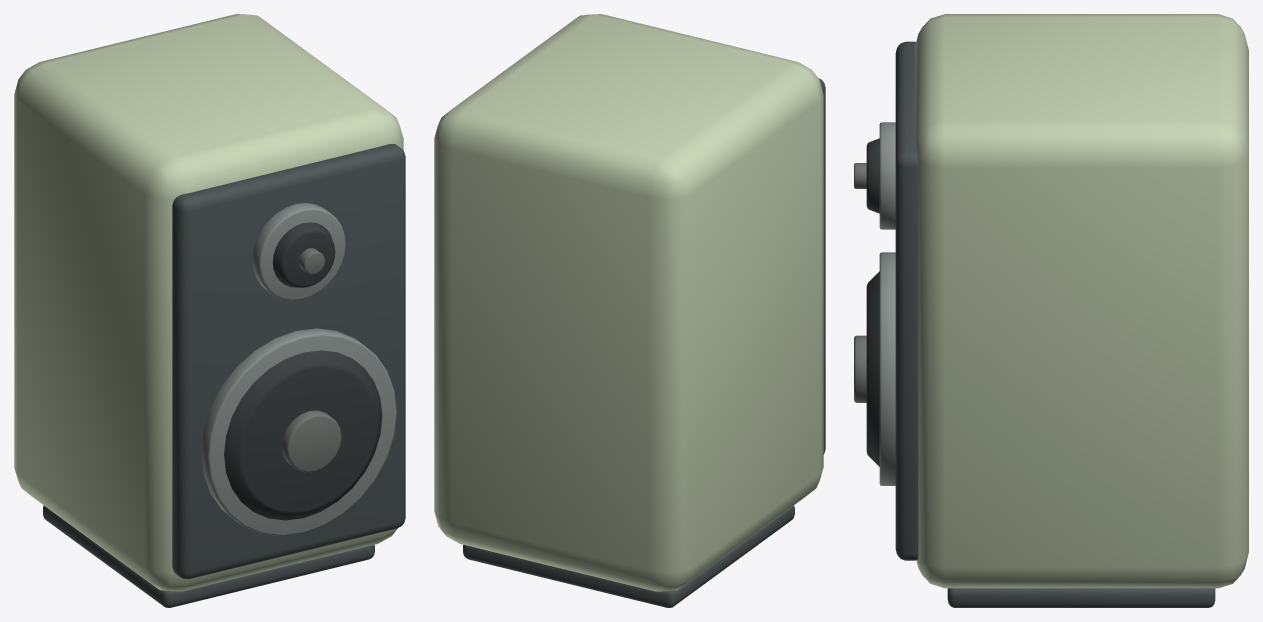
File: bookshelf-speaker.glb
3 views of the same model, side by side, from view 1: azimuth 30°, elevation 25°; view 2: azimuth 150°, elevation 25°; view 3: azimuth 270°, elevation 25° (orthographic). The views are drawn at different scales.
Visible parts, largest first — view 1: bookshelf-speaker; view 2: bookshelf-speaker; view 3: bookshelf-speaker.
Boxes of the visible parts, x1,y1,x2,y2 form: bookshelf-speaker: (14,14,405,607); bookshelf-speaker: (434,14,825,607); bookshelf-speaker: (854,14,1248,607).
Size of the model in its own units: 0.2 by 0.34 by 0.25.
